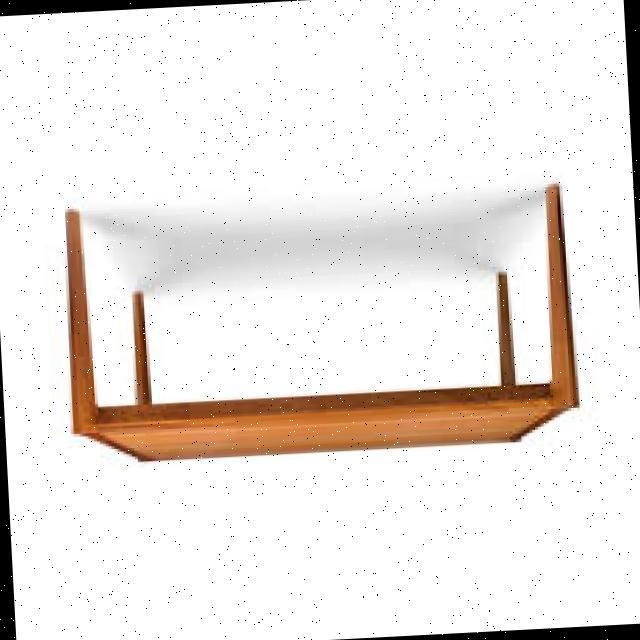Table: (42, 163, 590, 477)
